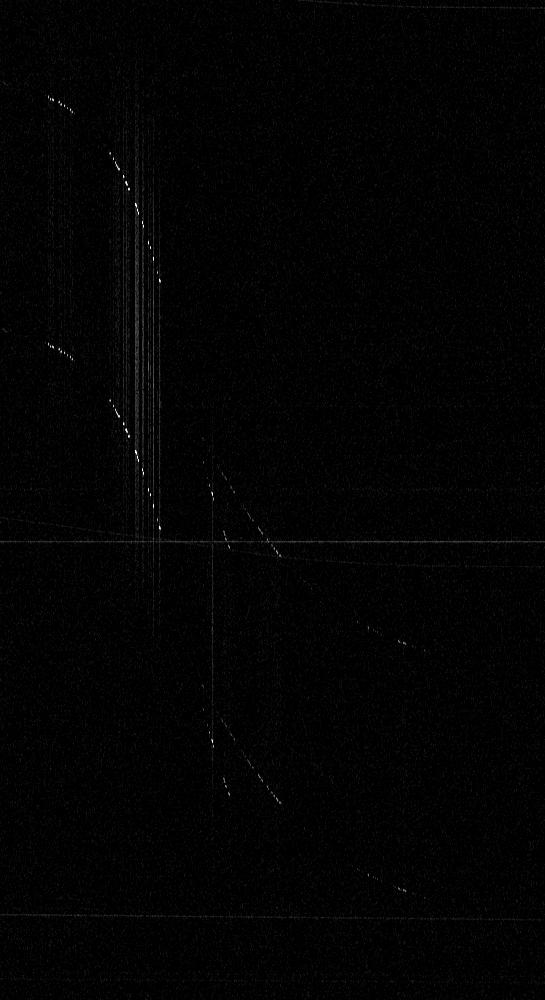signal: (0, 0, 544, 999)
